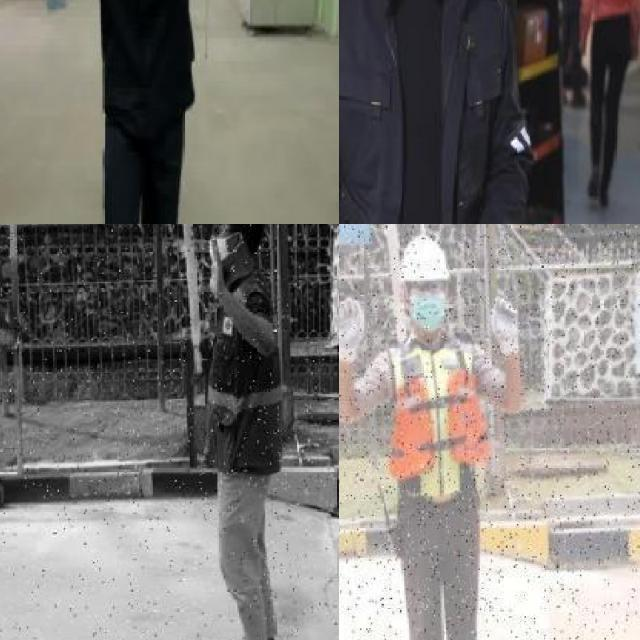apron: (490, 291, 522, 364), (339, 296, 365, 368)
